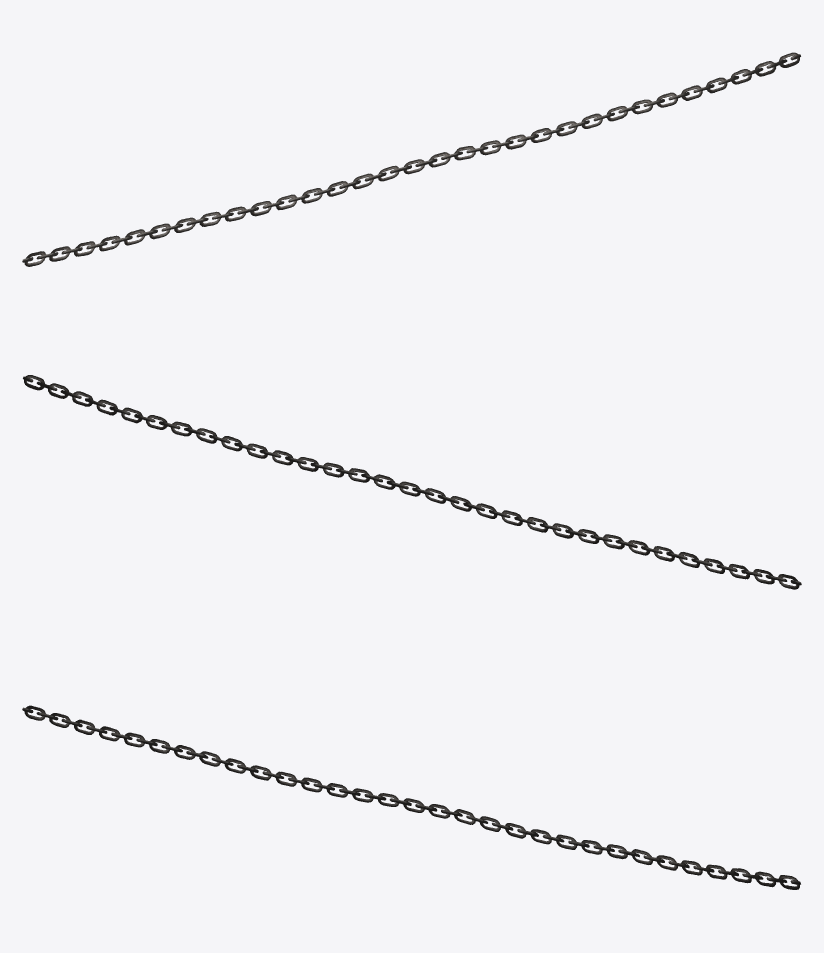
The model's file is Stretched chain.fbx.
3 renders of one model, top to bottom at view 1: azimuth 30°, elevation 25°; view 2: azimuth 150°, elevation 25°; view 3: azimuth 330°, elevation 25°, orthographic.
Parts seen in each view (by area): view 1: Plane.001; view 2: Plane.001; view 3: Plane.001.
Part boxes in pixels (x1=…): Plane.001: x1=22, y1=52, x2=800, y2=266; Plane.001: x1=23, y1=375, x2=801, y2=589; Plane.001: x1=22, y1=705, x2=800, y2=889.
Bounding box in the file's own units: 246 × 31.65 × 0.1289.
